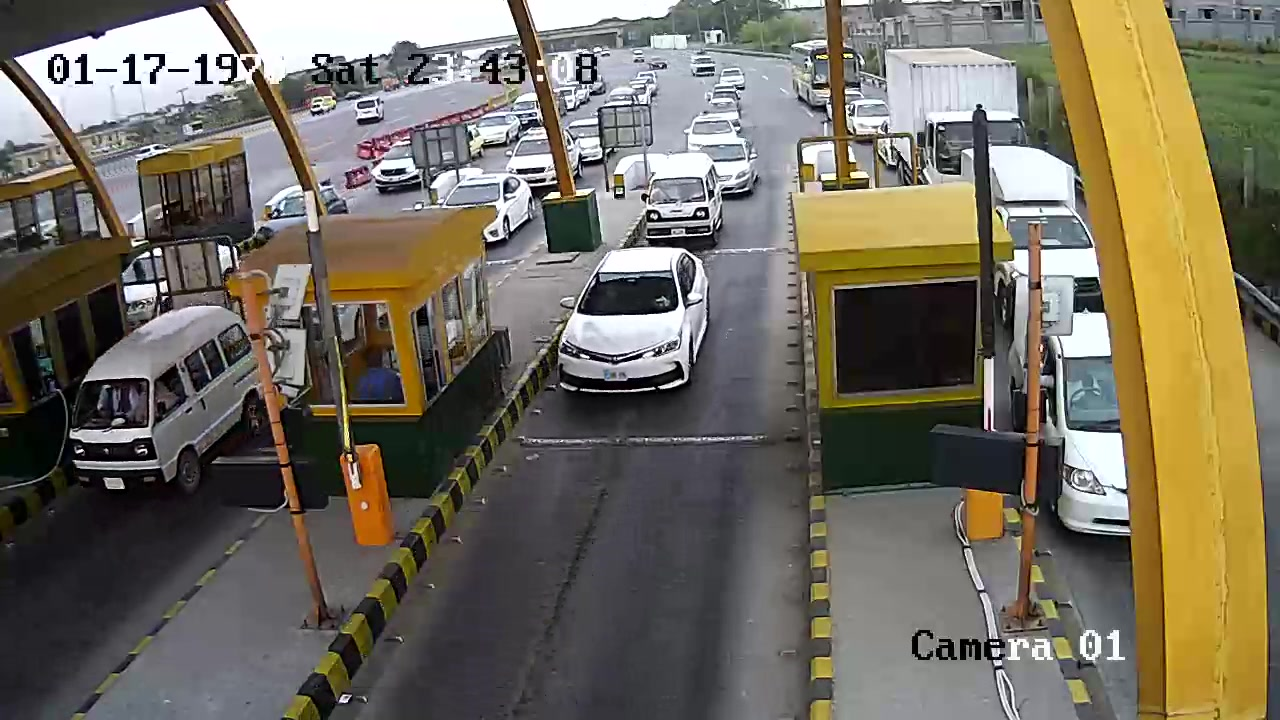F1: (545, 246, 722, 412)
